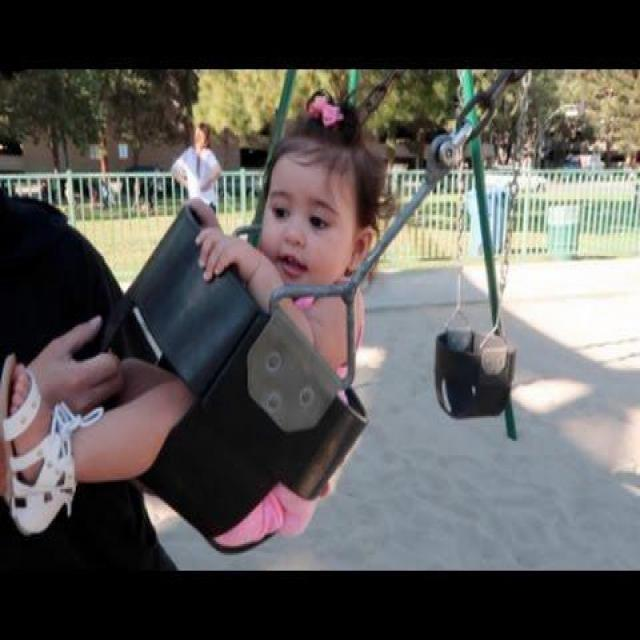child: (4, 91, 380, 537)
